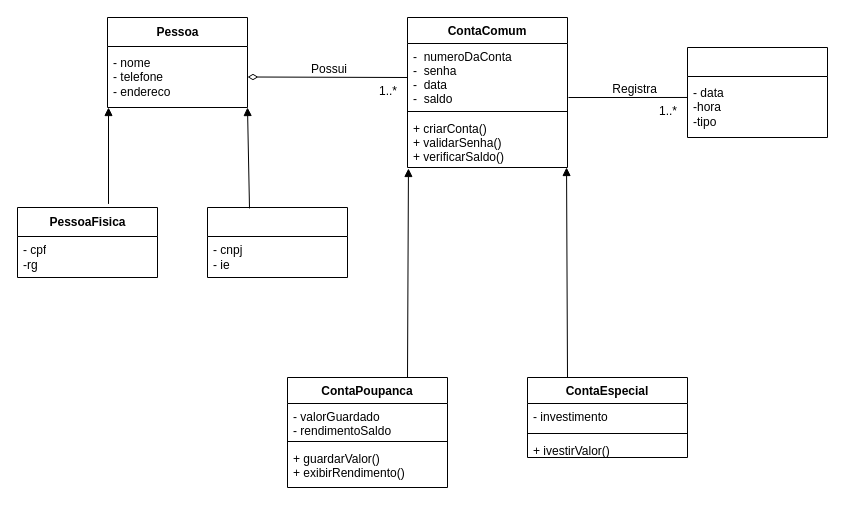
Image size: 845x508. Some labels were removed from this diagram. Here are the shapes that lost their labels. From the top down, the box of each, then its label:
(686, 46, 828, 138): Transacao
(206, 206, 348, 278): PessoaJuridica
